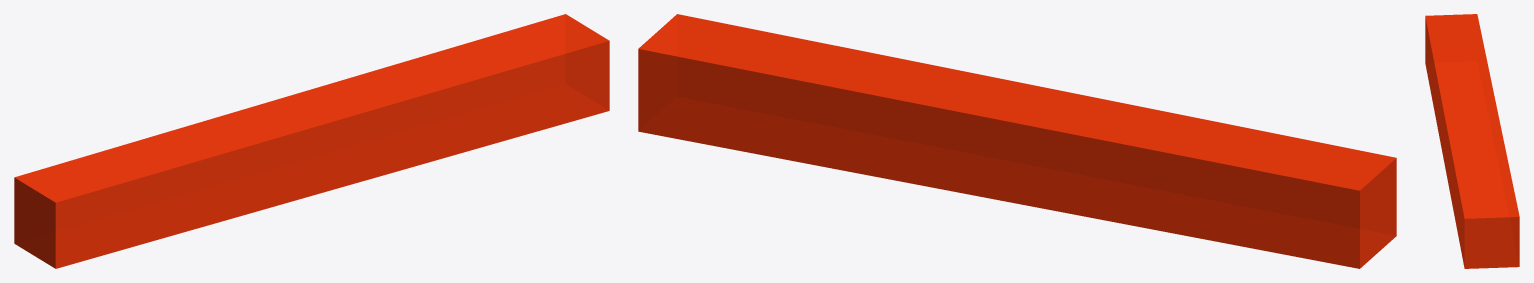
Rendered from Event_421278790_EErechit_46.fbx.
3 renders of one model, left to right at view 1: azimuth 30°, elevation 25°; view 2: azimuth 150°, elevation 25°; view 3: azimuth 270°, elevation 25°, orthographic. The views are drawn at different scales.
Parts seen in each view (by area): view 1: Model; view 2: Model; view 3: Model.
Part boxes in pixels (left/top/right/bottom): Model: left=14, top=14, right=609, bottom=268; Model: left=638, top=14, right=1396, bottom=268; Model: left=1425, top=14, right=1519, bottom=268.
Size of the model in its own units: 0.6731 by 0.0768 by 0.1311.
